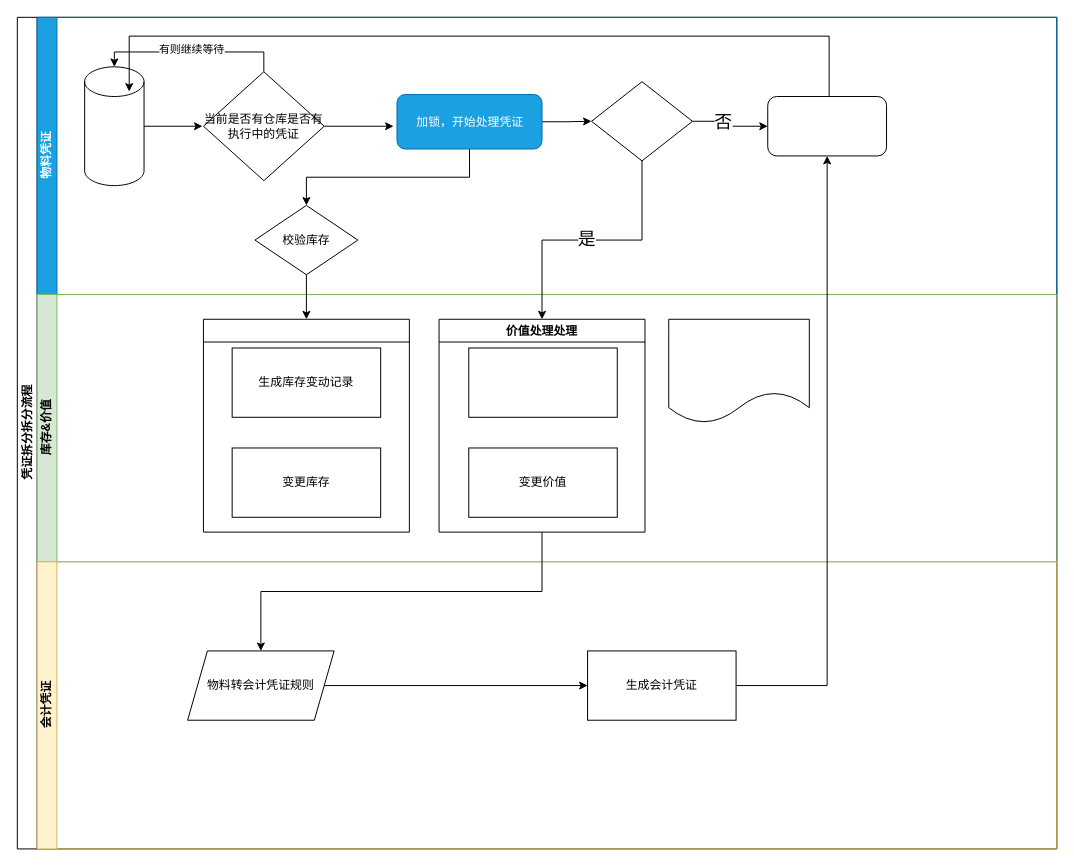
This 1074x866 diagram has some shape labels left out. Each missing label, with the centre of its shape:
保存凭证处理结果: point (827, 126)
凭证对应的价值，是在生成凭证的时候就处理还是这时候根据什么计算: point (738, 370)
库存处理: point (305, 425)
是否有价值变动: point (642, 121)
生成价值变动记录: point (542, 382)
获取凭证: point (114, 126)
